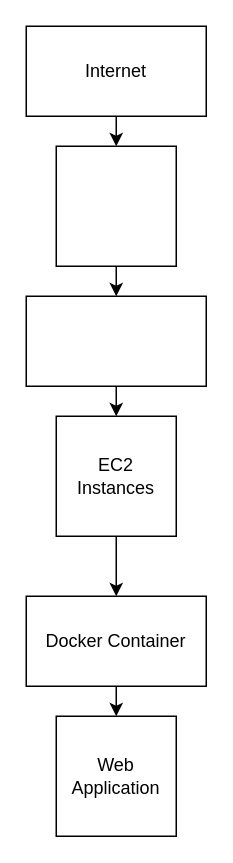
The diagram is 233 pixels wide and 863 high, and some of its shapes have lost their labels. The centre of each missing label's shape, as x and y in pixels:
"Auto Scaling Group" belongs at (115,340).
"Load Balancer" belongs at (115,205).
